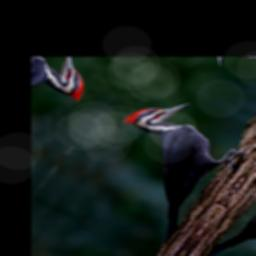Woodpecker: (55, 86, 256, 256)
